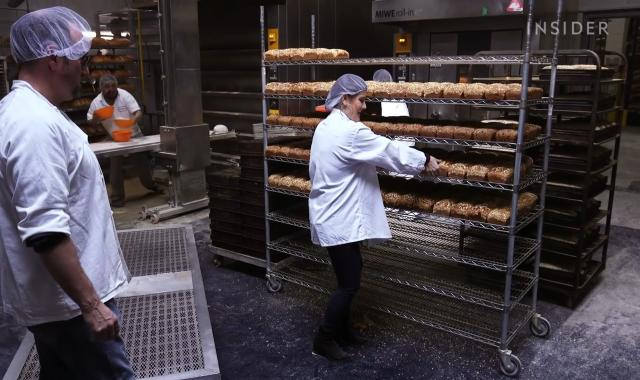hairnet: (10, 5, 94, 67), (326, 76, 366, 110), (96, 71, 116, 89), (372, 68, 393, 82)
